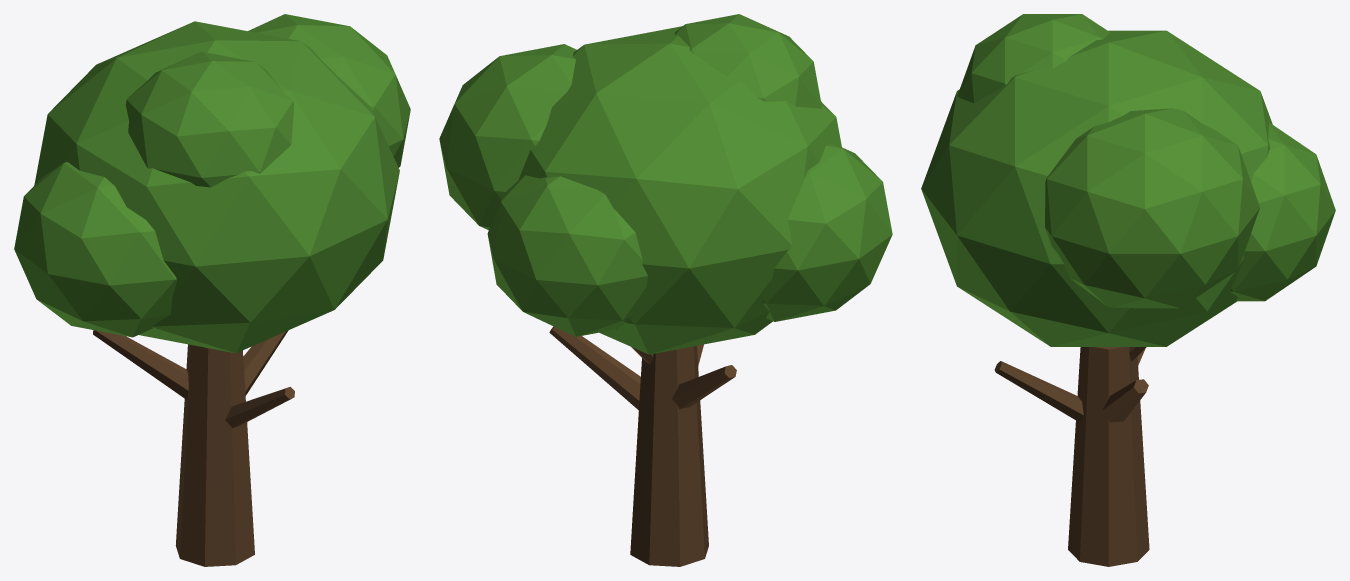
Rendered from tree_oak.glb.
3 views of the same model, side by side, from view 1: azimuth 30°, elevation 25°; view 2: azimuth 150°, elevation 25°; view 3: azimuth 270°, elevation 25° (orthographic).
Parts seen in each view (by area): view 1: tree_oak; view 2: tree_oak; view 3: tree_oak.
Part boxes in pixels (x1=…): tree_oak: x1=14, y1=14, x2=410, y2=566; tree_oak: x1=439, y1=14, x2=892, y2=566; tree_oak: x1=921, y1=14, x2=1335, y2=566.
Bounding box in the file's own units: 7.13 × 9 × 6.57.
